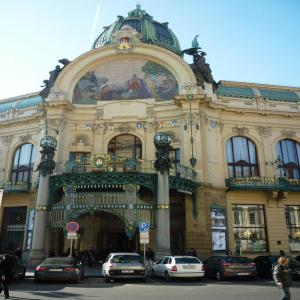Vehicle-registration-plate: (120, 269, 135, 275), (48, 269, 62, 274), (185, 265, 197, 269), (238, 273, 248, 277)
